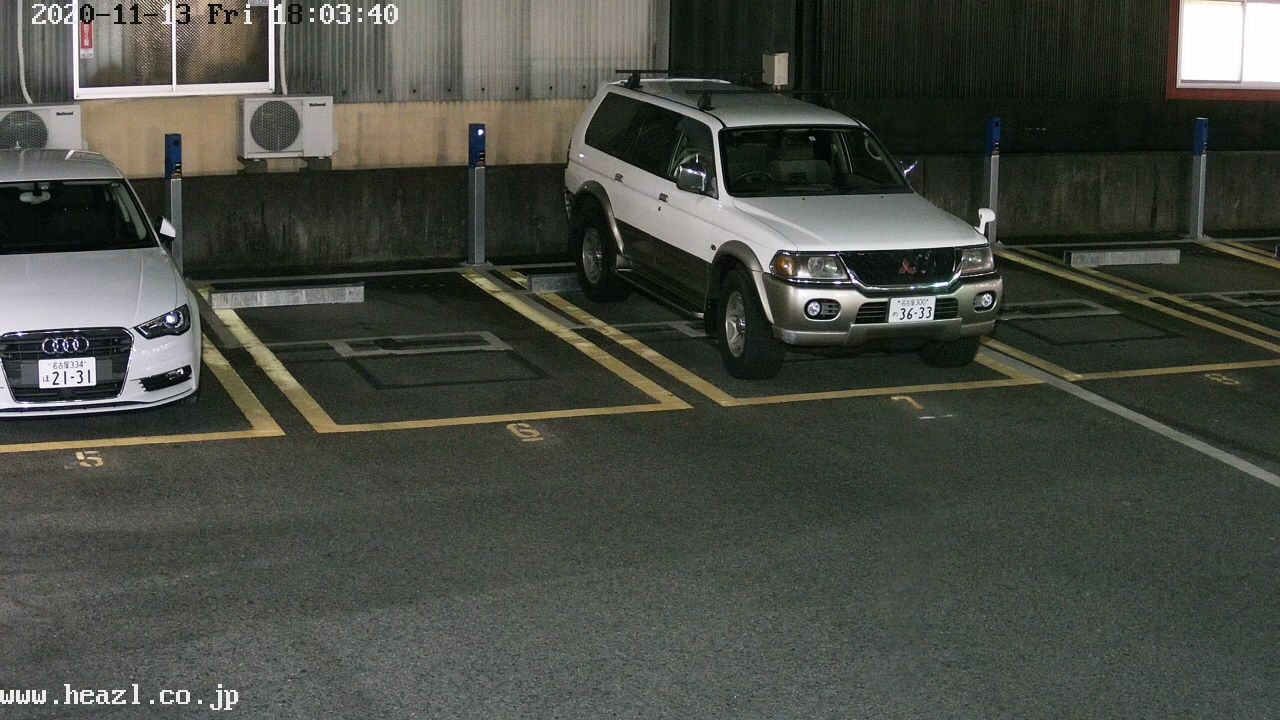number_plate: (39, 356, 95, 385), (889, 296, 939, 321)
